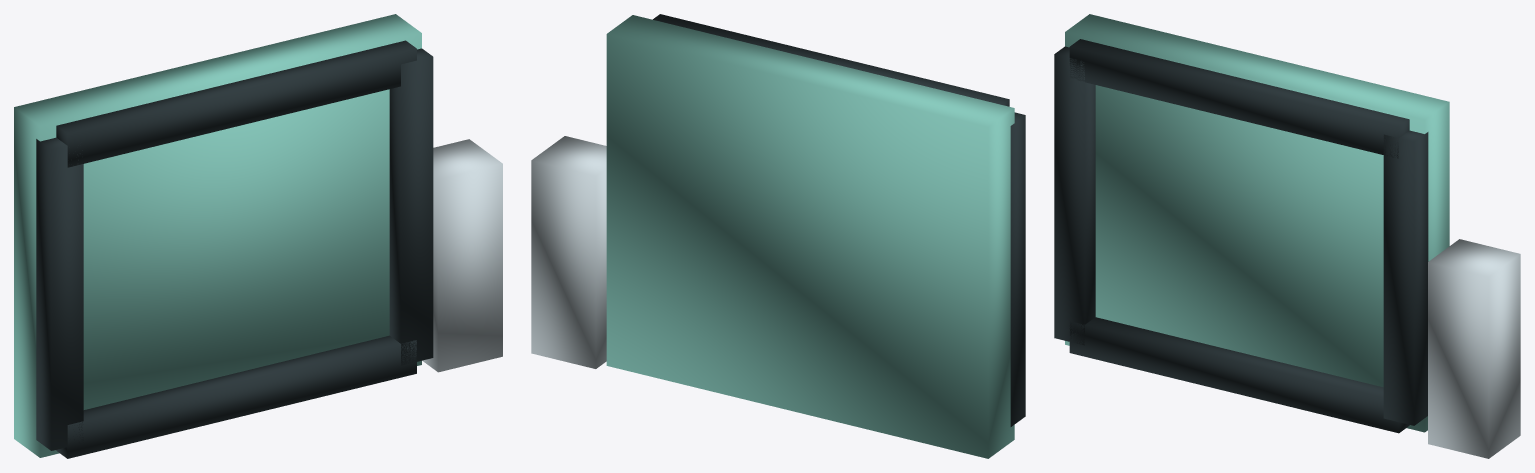
Rendered from tool-xray.glb.
3 views of the same model, side by side, from view 1: azimuth 30°, elevation 25°; view 2: azimuth 150°, elevation 25°; view 3: azimuth 330°, elevation 25° (orthographic). The views are drawn at different scales.
Visible parts, largest first — view 1: viewer chassis, screen horizontal bezel.001, screen horizontal bezel, viewer handle, screen vertical bezel, screen vertical bezel.001; view 2: viewer chassis, viewer handle, screen vertical bezel, screen horizontal bezel.001; view 3: viewer chassis, viewer handle, screen horizontal bezel.001, screen horizontal bezel, screen vertical bezel.001, screen vertical bezel.
Boxes of the visible parts, bbox=[...] form: viewer chassis: bbox=[14, 14, 421, 457]; screen horizontal bezel.001: bbox=[56, 40, 416, 167]; screen horizontal bezel: bbox=[56, 335, 416, 458]; viewer handle: bbox=[422, 139, 502, 372]; screen vertical bezel: bbox=[36, 137, 83, 450]; screen vertical bezel.001: bbox=[389, 48, 433, 365]; viewer chassis: bbox=[606, 15, 1014, 458]; viewer handle: bbox=[531, 136, 606, 368]; screen vertical bezel: bbox=[1010, 112, 1025, 426]; screen horizontal bezel.001: bbox=[653, 14, 1009, 106]; viewer chassis: bbox=[1065, 14, 1449, 432]; viewer handle: bbox=[1428, 239, 1520, 458]; screen horizontal bezel.001: bbox=[1069, 39, 1409, 158]; screen horizontal bezel: bbox=[1069, 317, 1409, 433]; screen vertical bezel.001: bbox=[1383, 130, 1428, 425]; screen vertical bezel: bbox=[1054, 46, 1095, 345].
Bounding box in the file's own units: 1.41 × 0.995 × 0.205.
